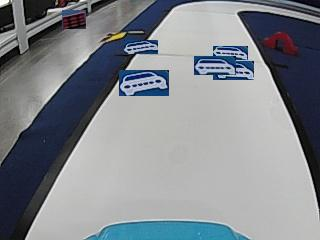bridge: (264, 31, 297, 54)
